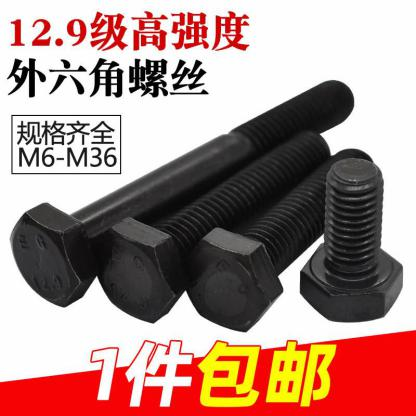FOD: (9, 74, 357, 308), (91, 126, 335, 325), (182, 145, 376, 331), (298, 154, 404, 326)
